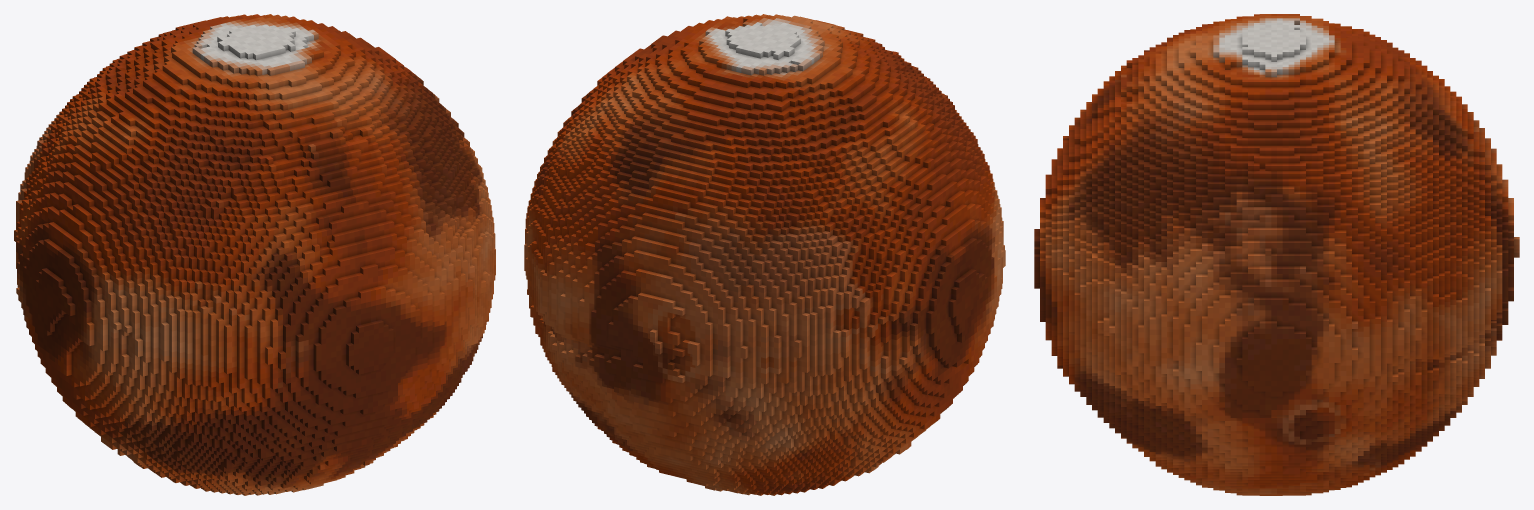
File: mars_lod0.glb
3 renders of one model, left to right at view 1: azimuth 30°, elevation 25°; view 2: azimuth 150°, elevation 25°; view 3: azimuth 270°, elevation 25°, orthographic.
Visible parts, largest first — view 1: mars_lod0; view 2: mars_lod0; view 3: mars_lod0.
Boxes of the visible parts, <box> form: mars_lod0: <box>14,14,495,495</box>; mars_lod0: <box>524,14,1005,495</box>; mars_lod0: <box>1034,14,1519,495</box>.
Size of the model in its own units: 2.07 by 2.07 by 2.1.
